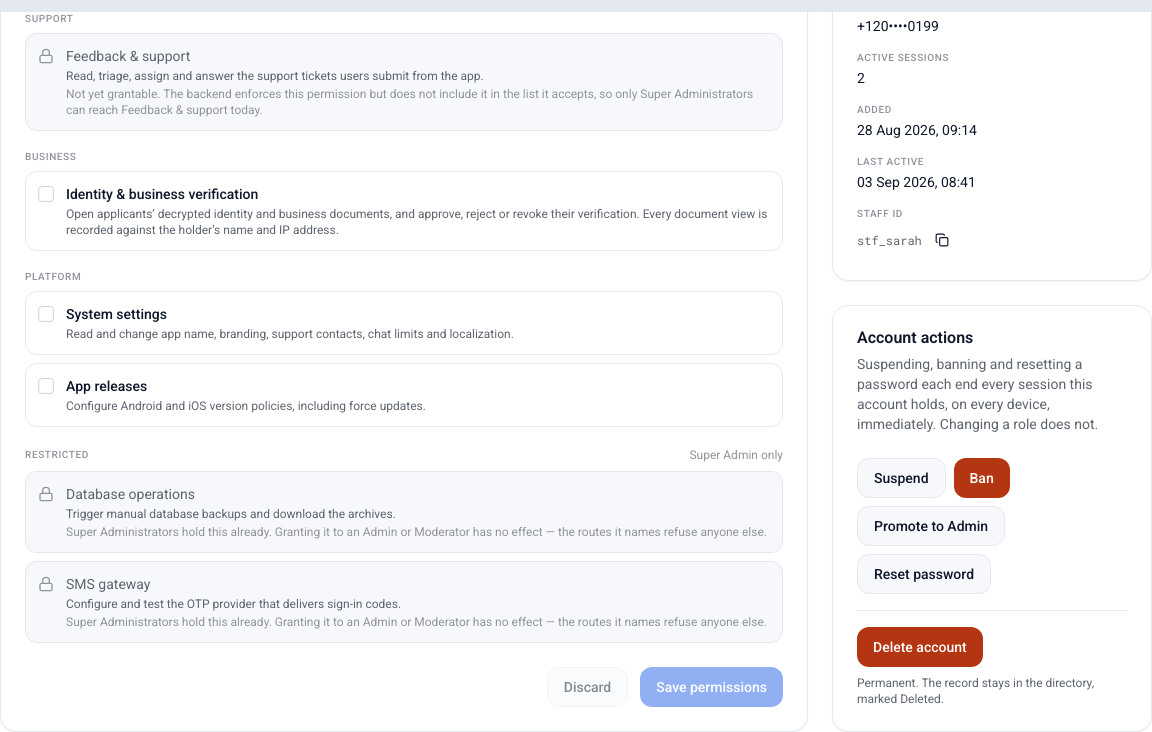
Test: saving permissions (§3.3) › keeps Save inert until something changes, and again after saving
Expected: the button "Save permissions" is disabled, x1=640 y1=667 x2=783 y2=707
Click the checkbox named "App releases" next to "App releases": (46, 386) x1=38 y1=378 x2=54 y2=394
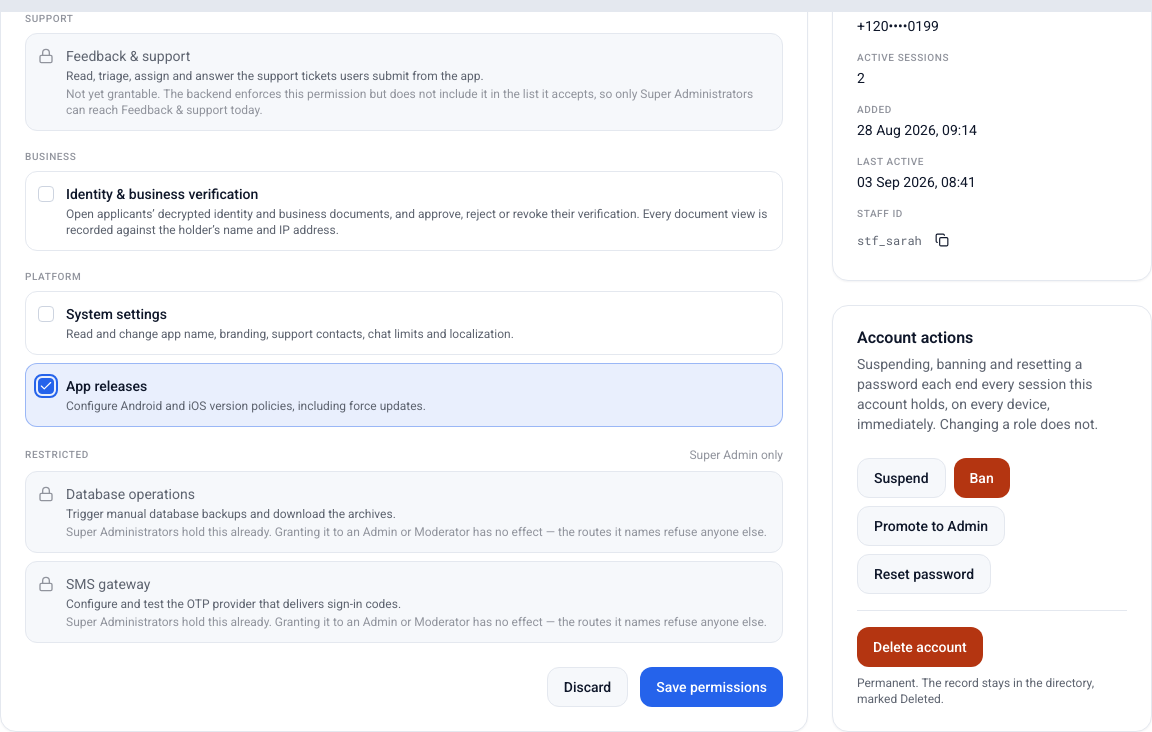
Expected: the button "Save permissions" is enabled
Click the button "Save permissions": (712, 687) x1=640 y1=667 x2=783 y2=707
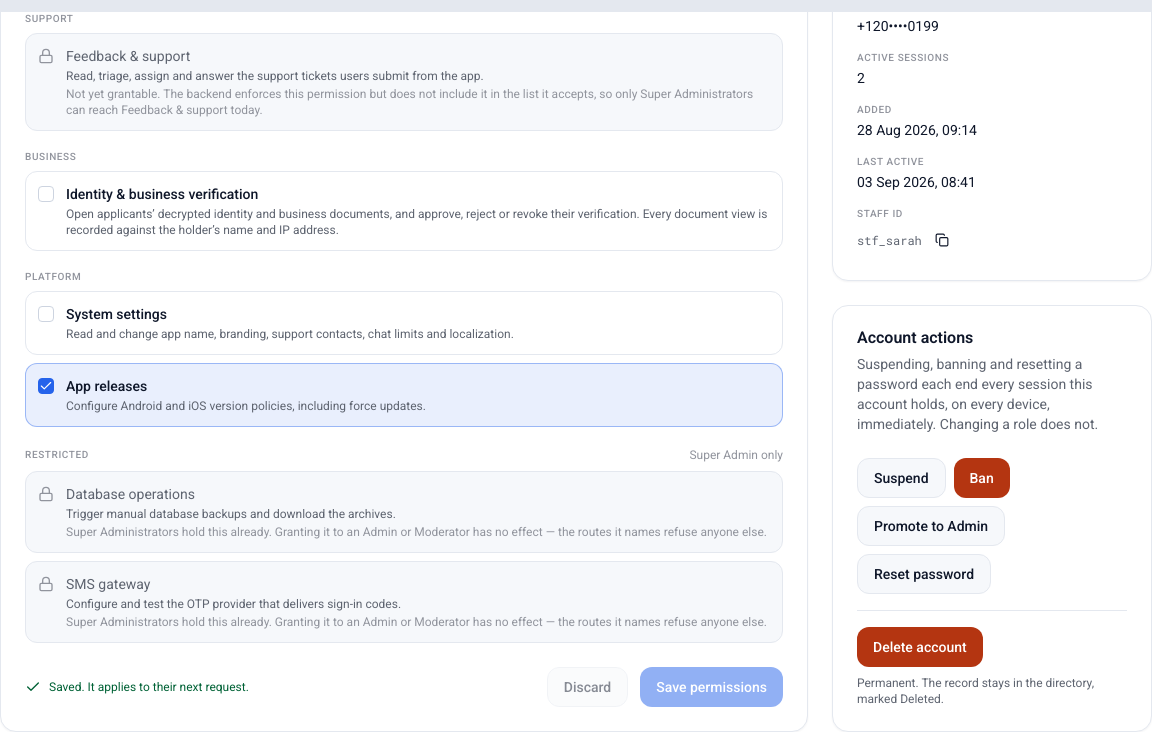
Expected: the text "Saved. It applies to their next request." is shown, x1=25 y1=679 x2=249 y2=695
Expected: the button "Save permissions" is disabled, x1=640 y1=667 x2=783 y2=707
